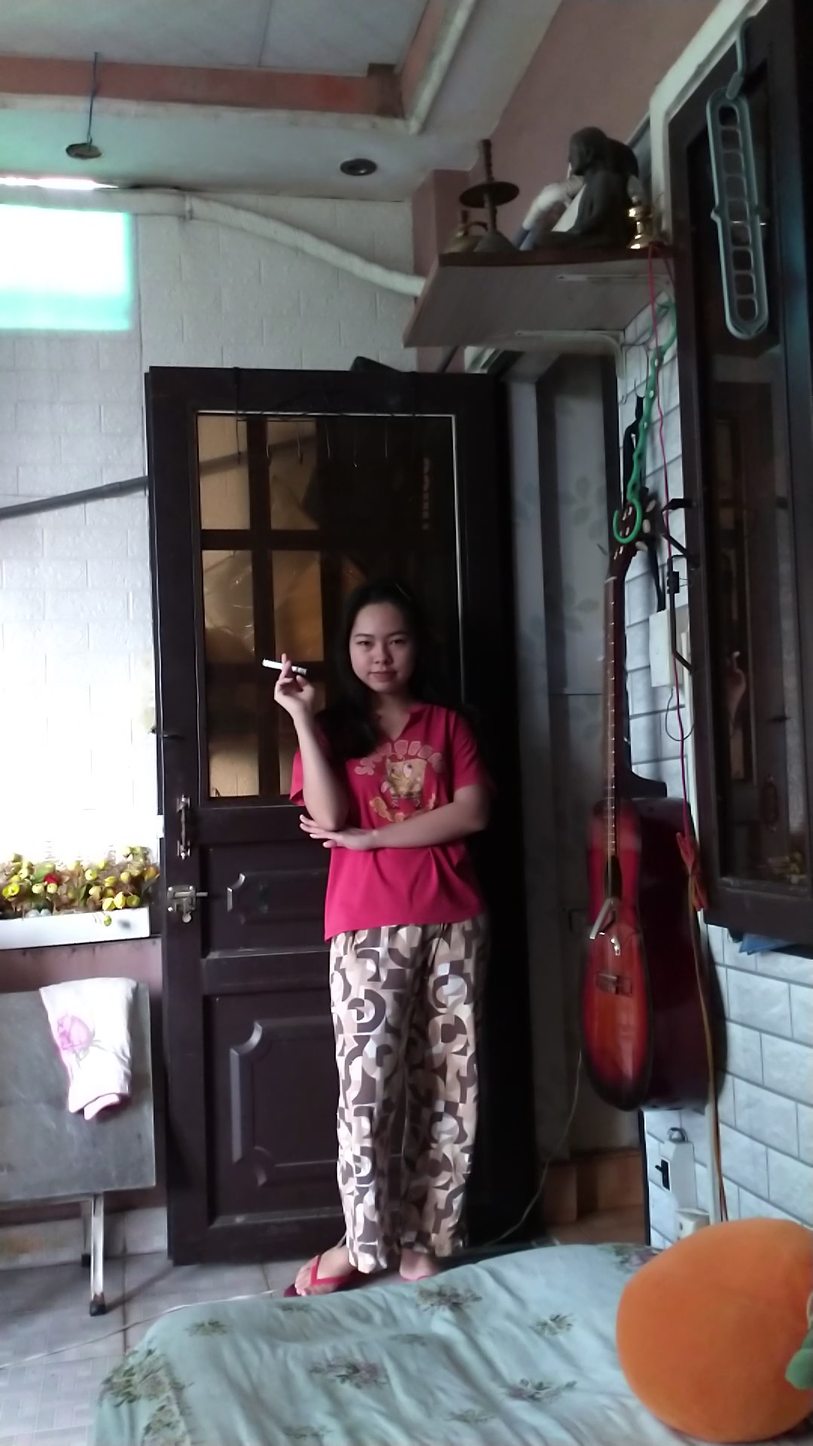cigarette: (258, 654, 285, 674)
person: (279, 559, 493, 1297)
